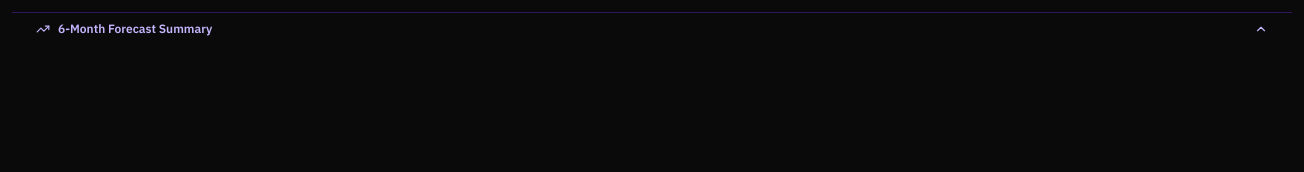
Test: ForecastSummaryPanel › on expand › renders the forecast table after successful load
The image size is (1304, 172).
Click the button "6-Month Forecast Summary": point(135, 28) [12,13,1292,45]
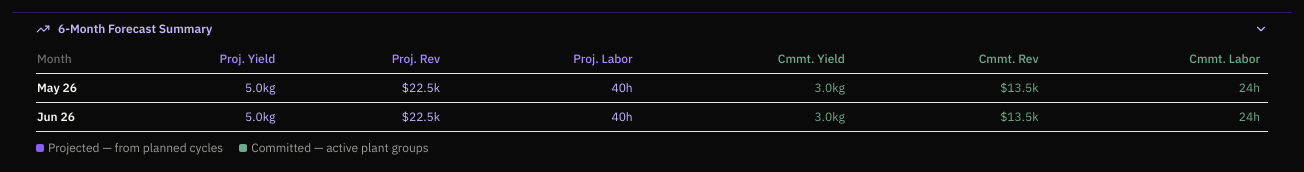
Result: the table is shown at [36,45,1268,132]
